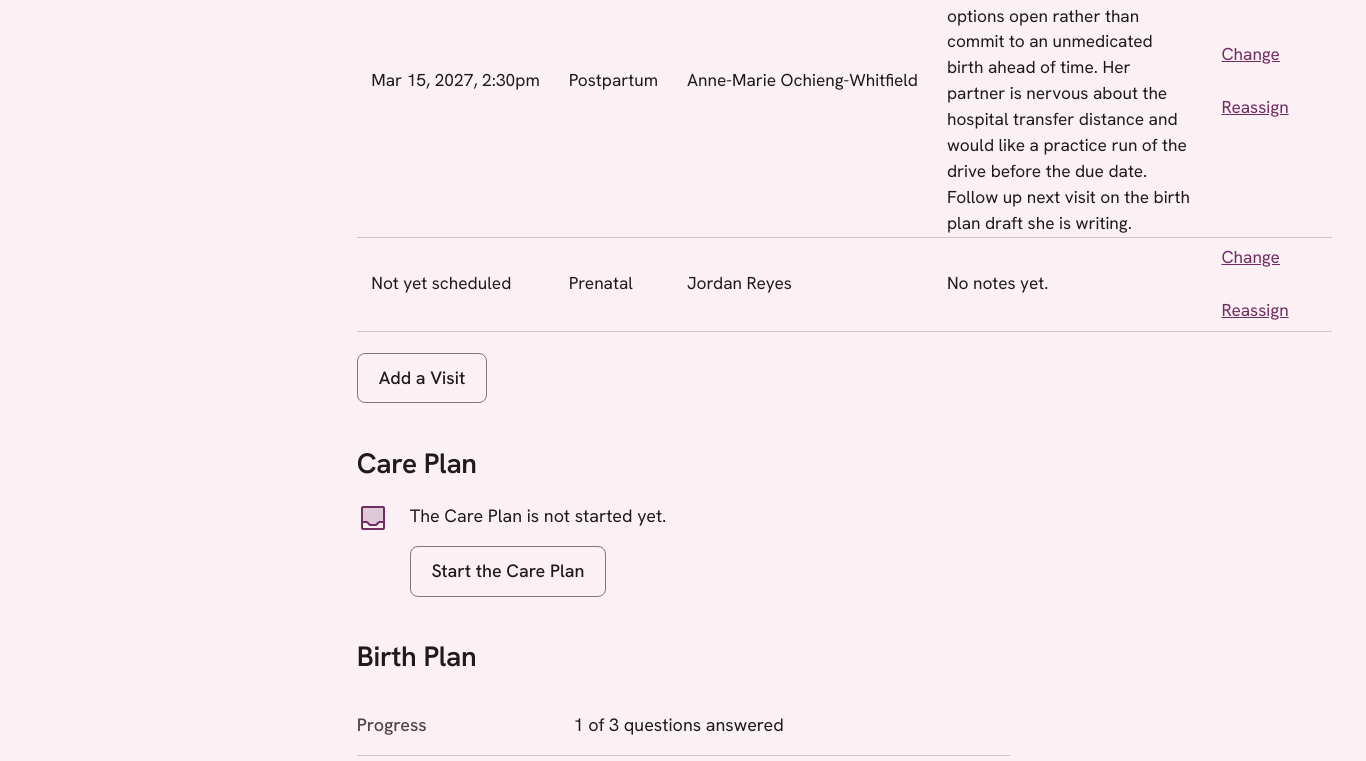
it: the on-call section after a Visit puts a Doula on the birth (#2568) › lists the Doula a saved Visit attaches, without a reload
(page scrolled)
Click the button "Add a Visit" at (422, 378), box top-left (357, 353), bottom-right (487, 403)
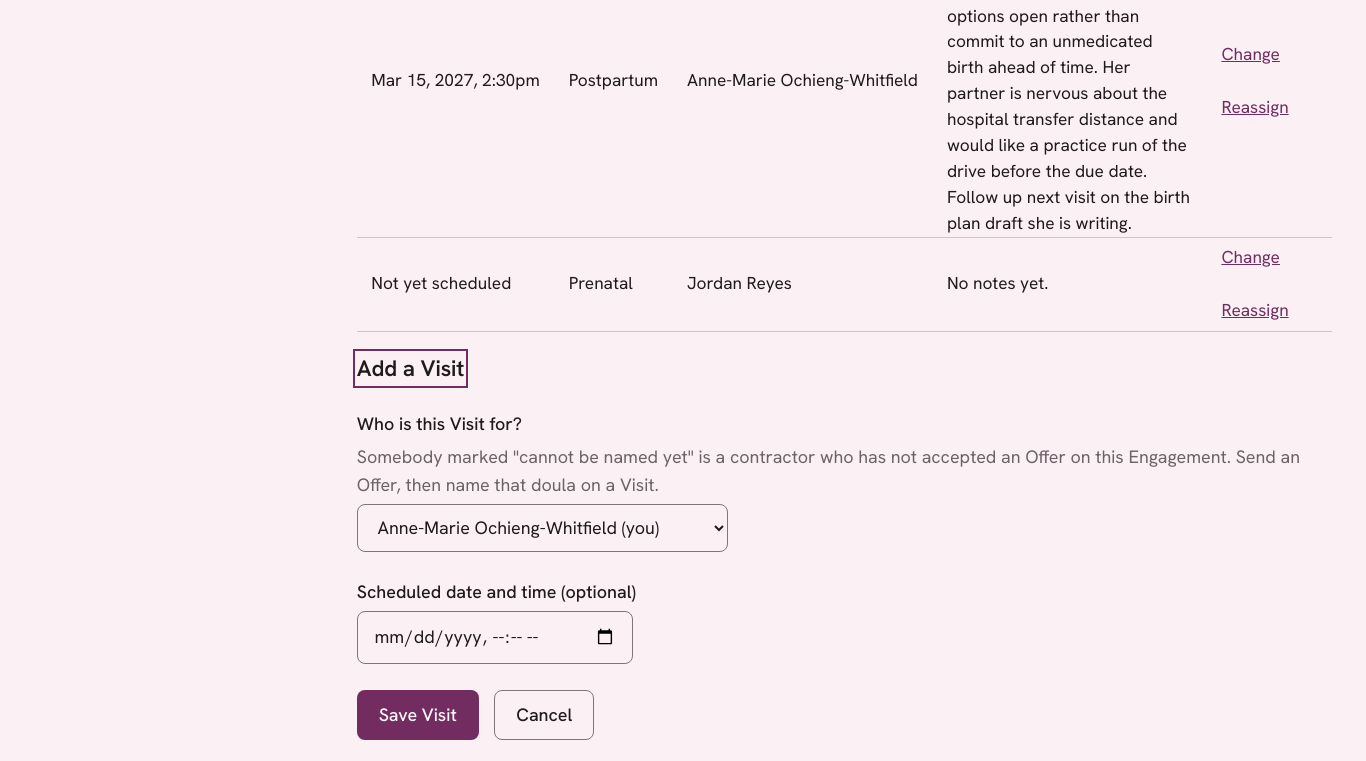
Select "Jordan Reyes" in the dropdown labelled "Who is this Visit for?" at (542, 528), box top-left (357, 504), bottom-right (728, 552)
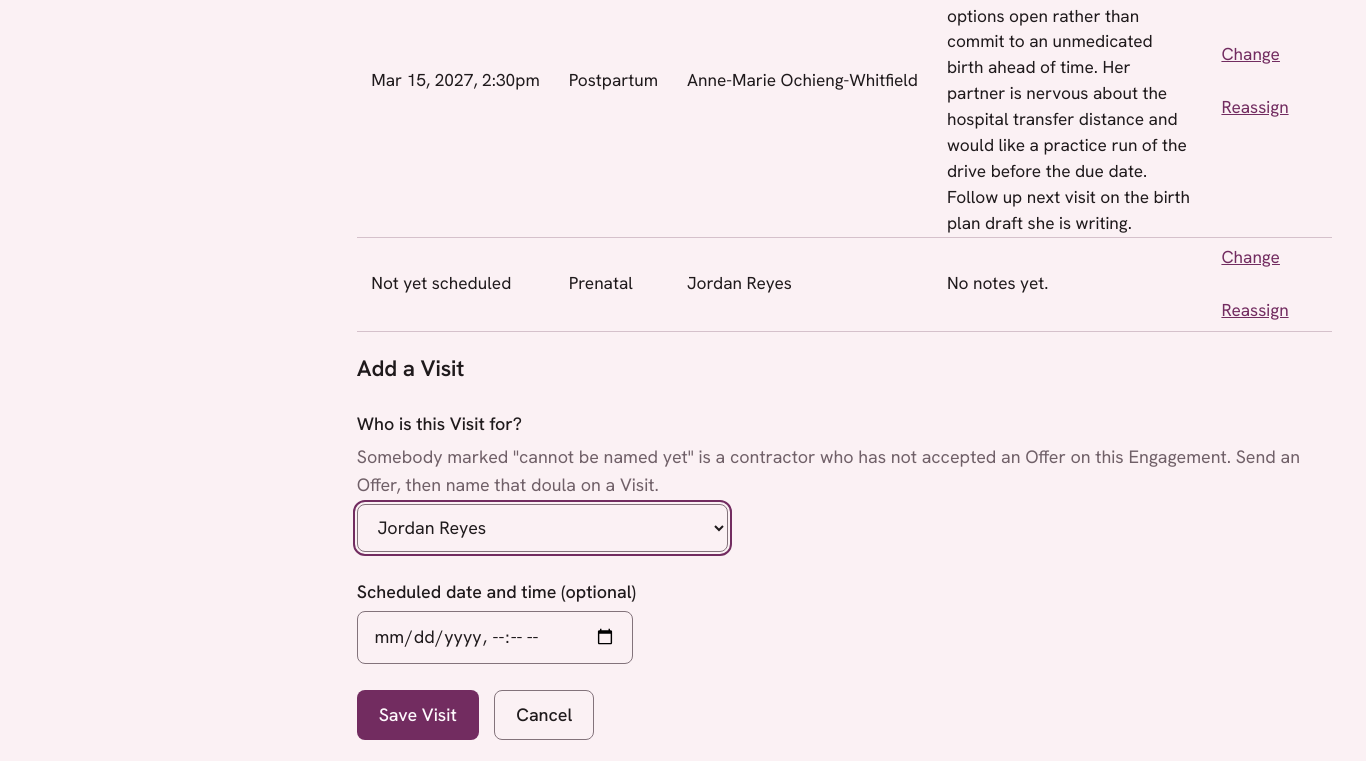
Click the button "Save Visit" at (418, 715), box top-left (357, 690), bottom-right (479, 740)
(page scrolled)
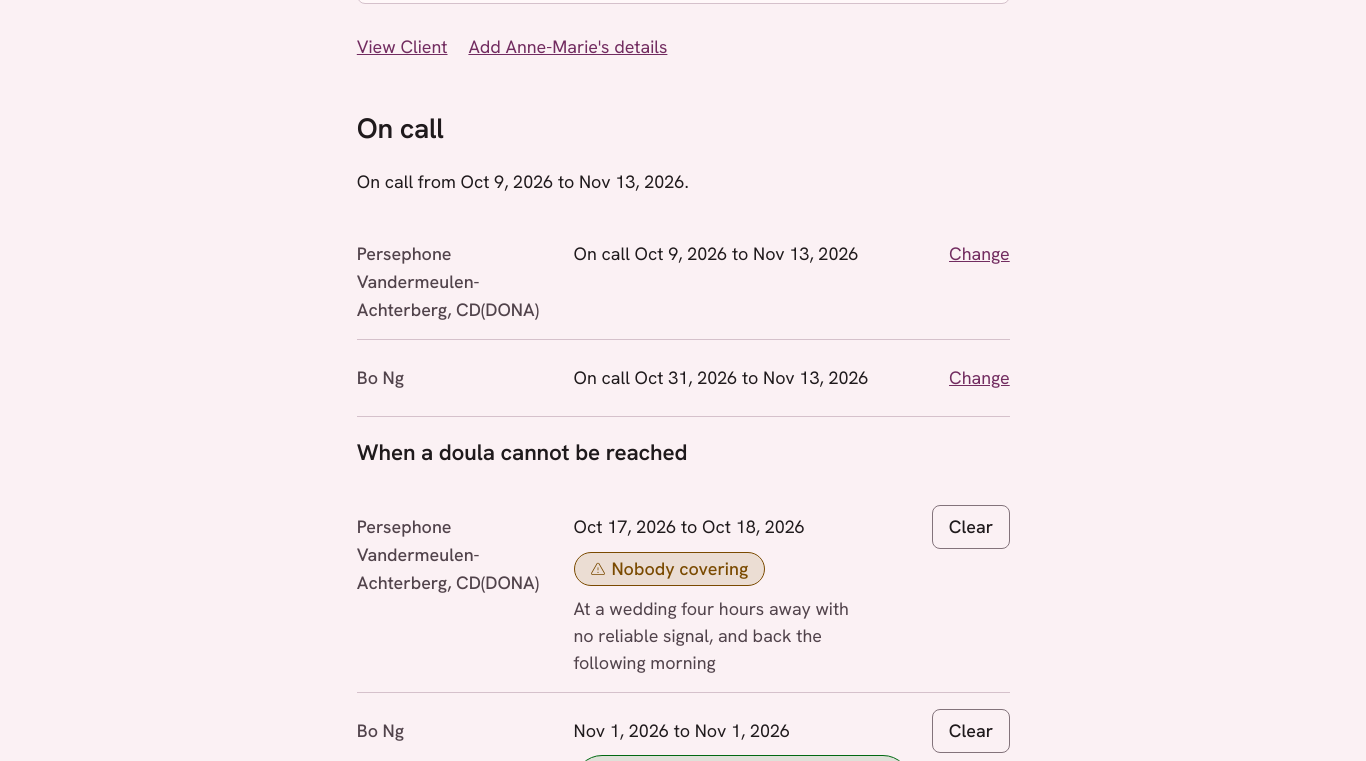
Expected: the text "On call Oct 31, 2026 to Nov 13, 2026" is shown, top-left (574, 366), bottom-right (868, 389)
